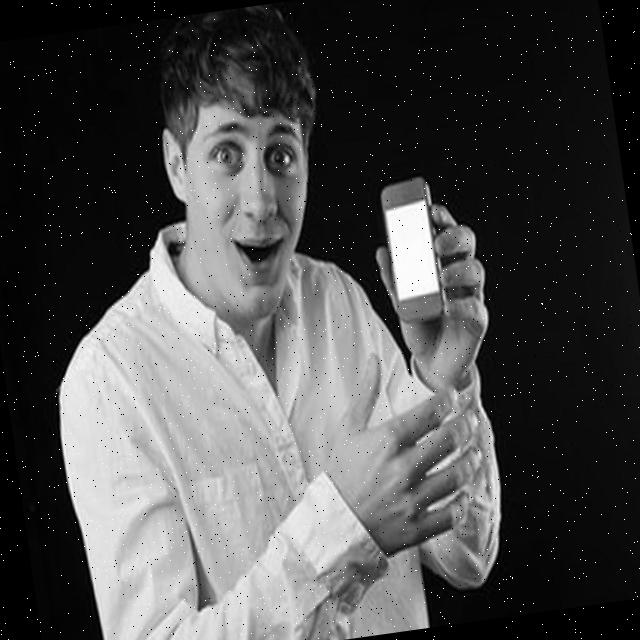Surprised: (171, 59, 330, 325)
